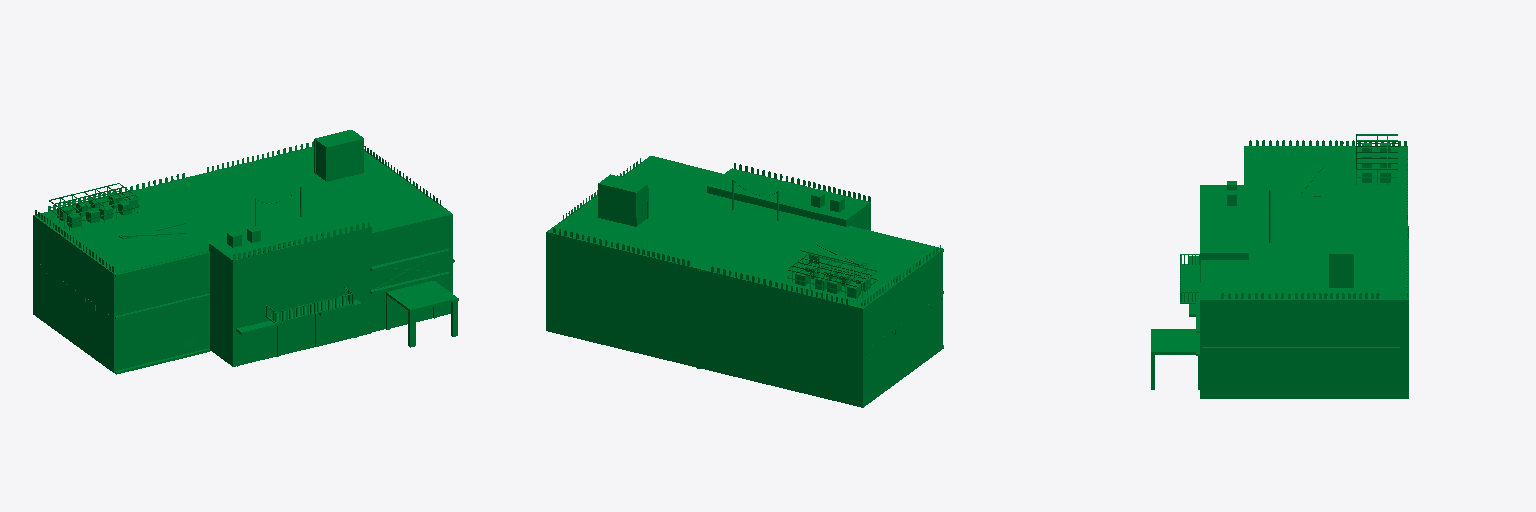
File: house.obj
The picture shows the model from 3 angles: view 1: azimuth 30°, elevation 25°; view 2: azimuth 150°, elevation 25°; view 3: azimuth 270°, elevation 25°; orthographic projection.
Parts seen in each view (by area): view 1: Line02; view 2: Line02; view 3: Line02.
Part boxes in pixels (bbox=[...]): Line02: bbox=[33, 130, 458, 374]; Line02: bbox=[546, 156, 943, 407]; Line02: bbox=[1151, 134, 1408, 398].
Size of the model in its own units: 2.84 by 1.14 by 1.99.